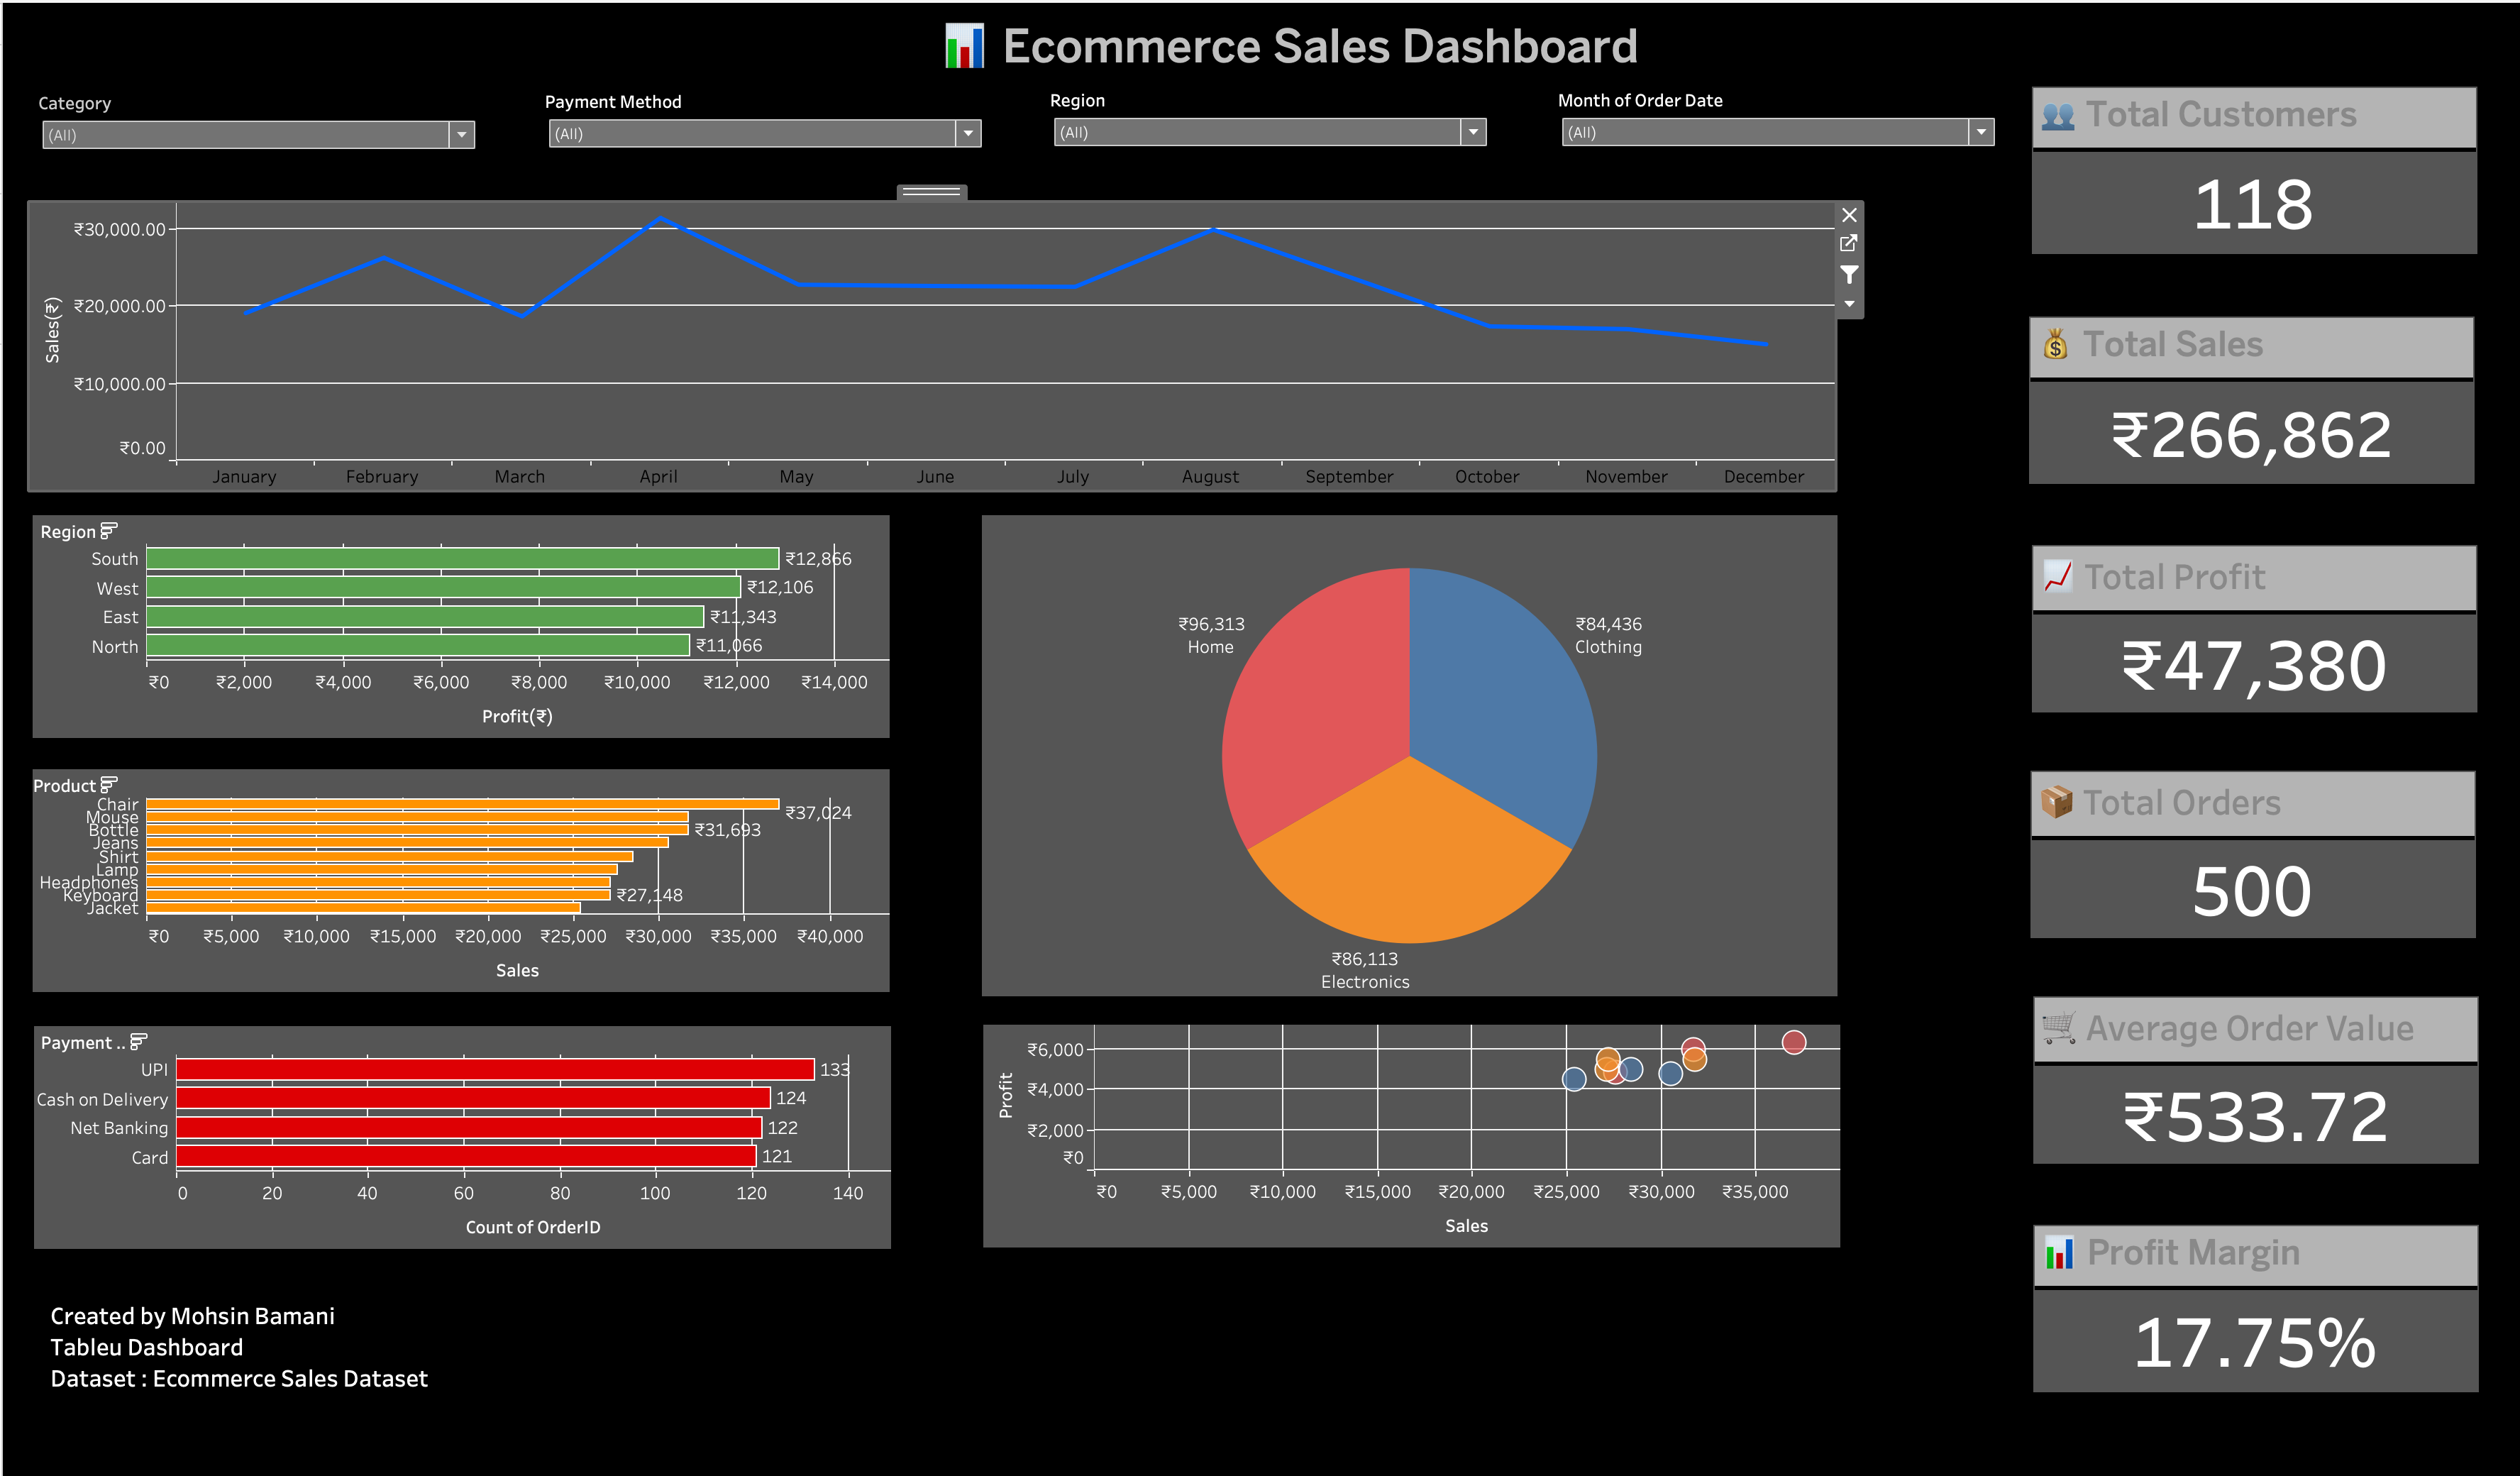

The dashboard page shown, as its layout file describes it:
{"tool":"tableau","page":{"name":"Dashboard 2","canvas":[1000,1000],"units":"permille","ordinal":0},"visuals":[{"type":"title","box":[5,7.7,989.9,46.2]},{"type":"dashboard-object","param":"[com.tableau.addfilters].[0.0.0].[https://extensions.tableauusercontent.com/sand","box":[5,54,989.9,938.3]},{"type":"worksheet","title":"Total Customers","mark":"Automatic","box":[806.2,56.8,176.8,113.7]},{"type":"filter","title":"Profit by Region","param":"[federated.02ar84g1aj3zmv1b7q1630elr6jb].[none:Region:nk]","box":[416,57.8,175.6,96.3]},{"type":"filter","title":"Monthly Sales Trend","param":"[federated.02ar84g1aj3zmv1b7q1630elr6jb].[mn:OrderDate:ok]","box":[618,57.8,175.6,96.3]},{"type":"filter","title":"Payment Method Distribution","param":"[federated.02ar84g1aj3zmv1b7q1630elr6jb].[none:PaymentMethod:nk]","box":[215.2,58.8,175.6,96.3]},{"type":"filter","title":"Sales by Category","param":"[federated.02ar84g1aj3zmv1b7q1630elr6jb].[none:Category:nk]","box":[13.8,59.7,175.6,96.3]},{"type":"worksheet","title":"Monthly Sales Trend","mark":"Line","rows":["Sales"],"cols":["OrderDate"],"box":[10.7,135.8,716.8,194.6]},{"type":"worksheet","title":"Total Sales","mark":"Automatic","box":[804.9,212.9,176.8,113.7]},{"type":"worksheet","title":"Profit by Region","mark":"Automatic","rows":["Region"],"cols":["Profit"],"box":[12,347.8,340.5,151.2]},{"type":"worksheet","title":"Sales by Category","mark":"Pie","box":[388.9,347.8,339.8,326.6]},{"type":"worksheet","title":"Total Profit","mark":"Automatic","box":[806.2,368,176.8,113.7]},{"type":"worksheet","title":"Top 10 Product by Sales","mark":"Automatic","rows":["Product"],"cols":["Sales"],"box":[12,520.2,340.5,151.2]},{"type":"worksheet","title":"Total Orders","mark":"Automatic","box":[805.5,521.2,176.8,113.7]},{"type":"worksheet","title":"Average Order Value","mark":"Automatic","box":[806.8,674.4,176.8,113.7]},{"type":"worksheet","title":"Sales vs Profit Scatter Plot","mark":"Circle","rows":["Profit"],"cols":["Sales"],"box":[389.6,693.6,340.5,151.2]},{"type":"worksheet","title":"Payment Method Distribution","mark":"Automatic","rows":["PaymentMethod"],"cols":["OrderID"],"box":[12.6,694.6,340.5,151.2]},{"type":"worksheet","title":"Profit Margin","mark":"Automatic","box":[806.8,829.5,176.8,113.7]},{"type":"text","box":[12,867.1,214,90.6]}]}

Visuals, with their boxes on the dashboard's canvas, which has no fixed pixel size, in thousandths of its width and height (x1, y1, x2, y2). These are canvas units, not pixel positions in the 2520x1476 screenshot, which may show the page scaled, cropped or inside an application window:
title: [left=5, top=8, right=995, bottom=54]
dashboard-object: [left=5, top=54, right=995, bottom=992]
"Total Customers" worksheet: [left=806, top=57, right=983, bottom=170]
"Profit by Region" filter: [left=416, top=58, right=592, bottom=154]
"Monthly Sales Trend" filter: [left=618, top=58, right=794, bottom=154]
"Payment Method Distribution" filter: [left=215, top=59, right=391, bottom=155]
"Sales by Category" filter: [left=14, top=60, right=189, bottom=156]
"Monthly Sales Trend" worksheet (Line marks): [left=11, top=136, right=728, bottom=330]
"Total Sales" worksheet: [left=805, top=213, right=982, bottom=327]
"Profit by Region" worksheet: [left=12, top=348, right=352, bottom=499]
"Sales by Category" worksheet (Pie marks): [left=389, top=348, right=729, bottom=674]
"Total Profit" worksheet: [left=806, top=368, right=983, bottom=482]
"Top 10 Product by Sales" worksheet: [left=12, top=520, right=352, bottom=671]
"Total Orders" worksheet: [left=806, top=521, right=982, bottom=635]
"Average Order Value" worksheet: [left=807, top=674, right=984, bottom=788]
"Sales vs Profit Scatter Plot" worksheet (Circle marks): [left=390, top=694, right=730, bottom=845]
"Payment Method Distribution" worksheet: [left=13, top=695, right=353, bottom=846]
"Profit Margin" worksheet: [left=807, top=830, right=984, bottom=943]
text: [left=12, top=867, right=226, bottom=958]
